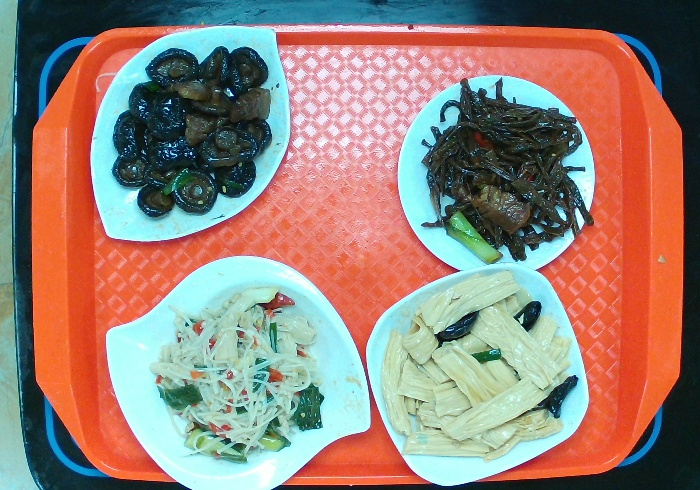RJxy-Da_Du_Pan: (91, 24, 295, 245)
RJxy-Shuang_Jiao_Pan: (104, 253, 370, 490)
RJxy-Si_Fang_Wan: (361, 263, 593, 490)
RJxy-Xiao_Yuan_Die: (389, 73, 597, 281)
